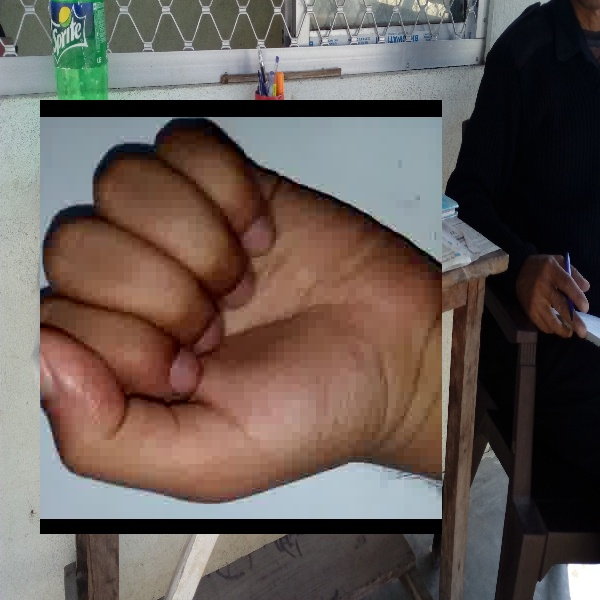A: (40, 100, 442, 534)
